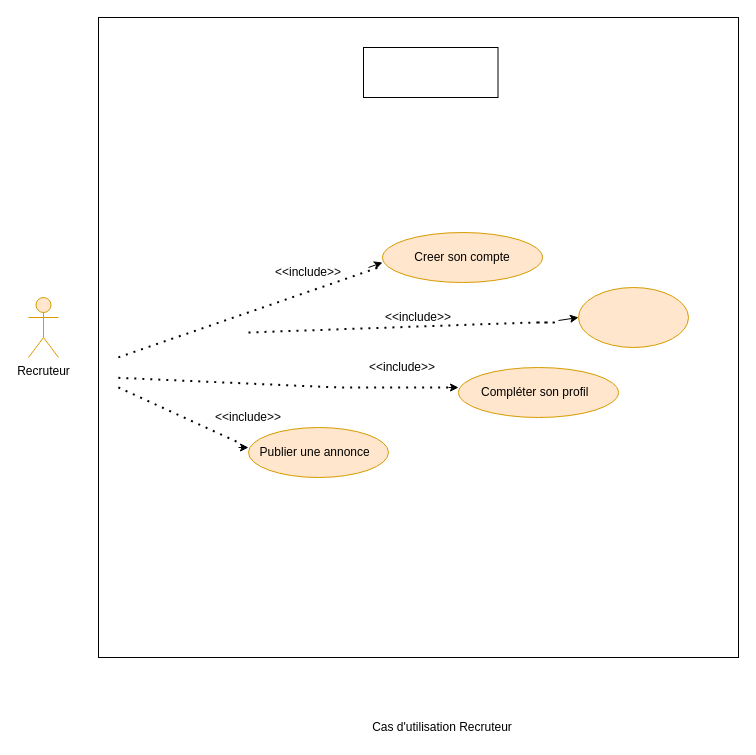
The diagram is 756 pixels wide and 755 high, and some of its shapes have lost their labels. The shapes that lost their labels are listed below. From the top down, each one's centre as x and y in pixels, then its label:
the point at 430,72: App Trt-Conseil
the point at 633,317: S'authentifier
